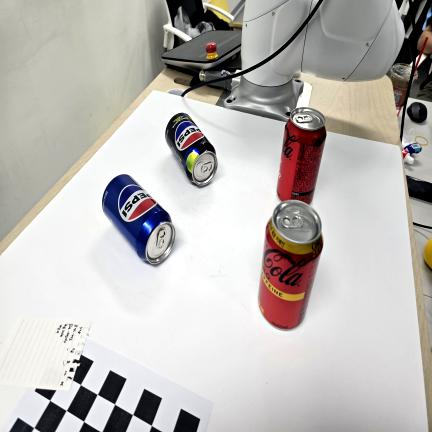can_coke_decaf: (258, 200, 323, 329)
can_coke_zero: (277, 108, 326, 204)
can_pepsi: (102, 174, 175, 264)
can_pepsi_zero: (165, 113, 218, 185)
